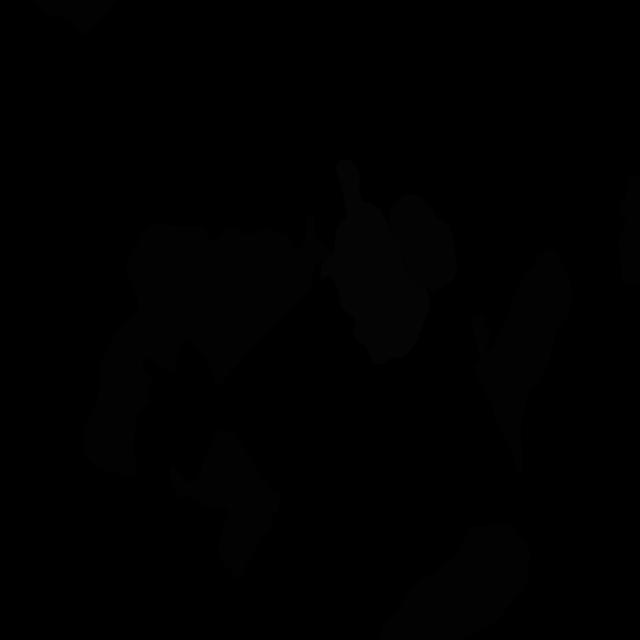cardboard: (83, 214, 334, 477), (473, 247, 573, 474), (380, 521, 531, 640), (170, 428, 280, 579), (32, 0, 117, 35), (617, 175, 640, 285), (471, 314, 491, 359)
metal: (390, 194, 458, 292)
soft_plastic: (320, 160, 430, 365)
